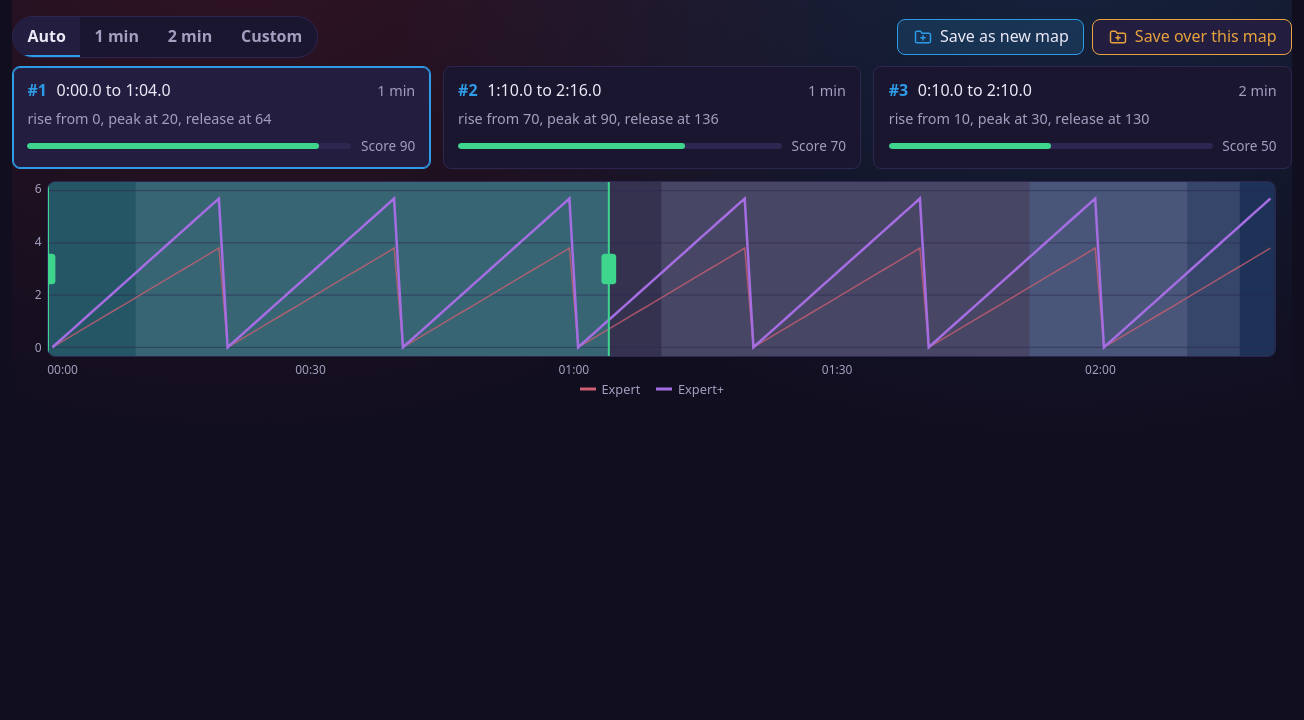
Test: CropPanel › a failed job shows the reason
This screenshot has width=1304, height=720.
Expected: the slider labelled "Crop end" is shown, 602,182 -> 616,356
What coordinates should you click on to do the following:
click the button "Save as new map"
I would click on:
 (991, 37)
Its box is 897,19 -> 1084,55.
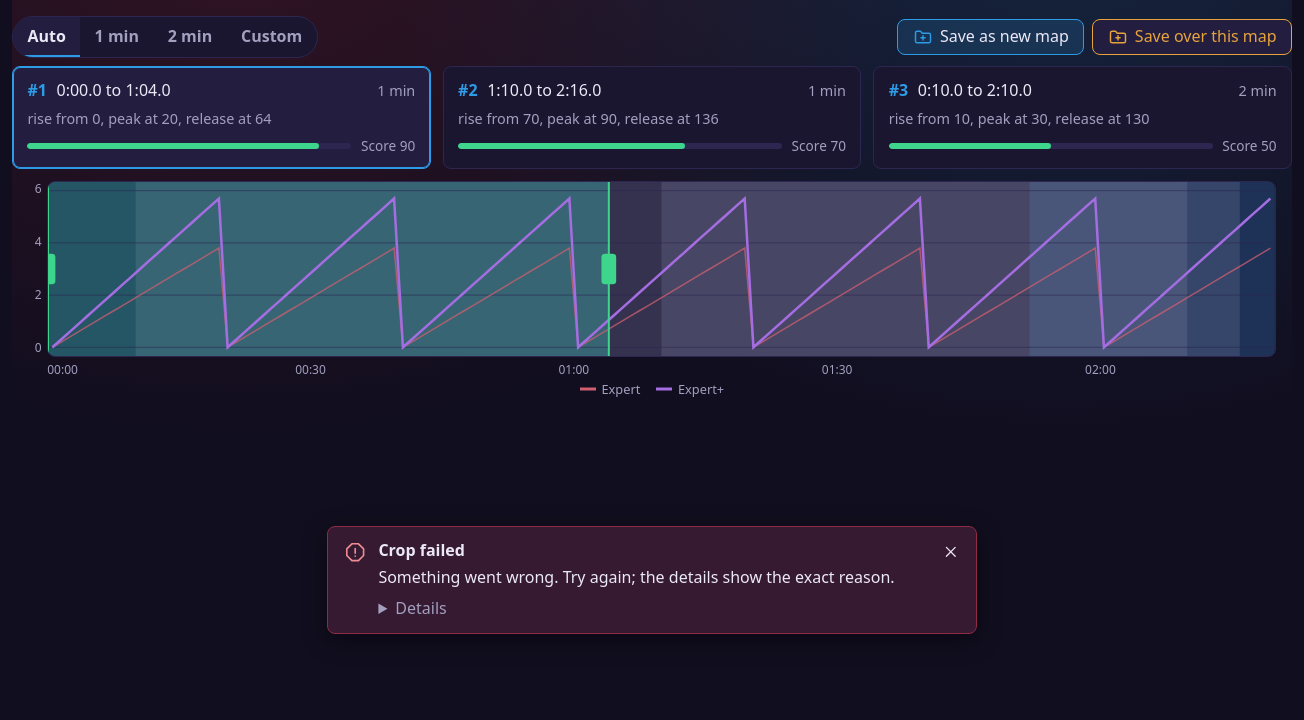
Result: the text "Crop failed" is shown at 378,540 -> 465,562
